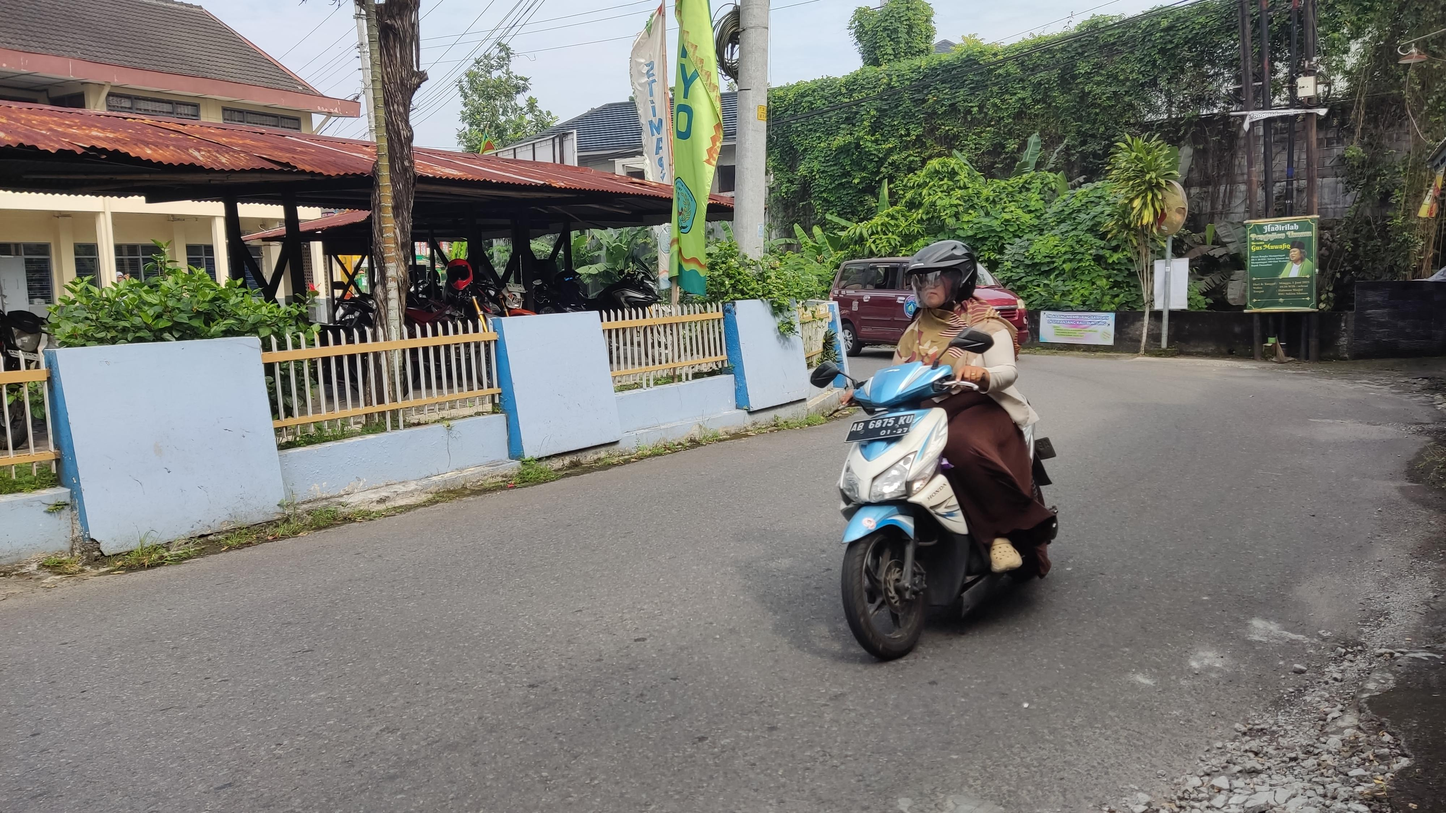helm: (903, 239, 980, 312)
riding: (807, 238, 1064, 662)
